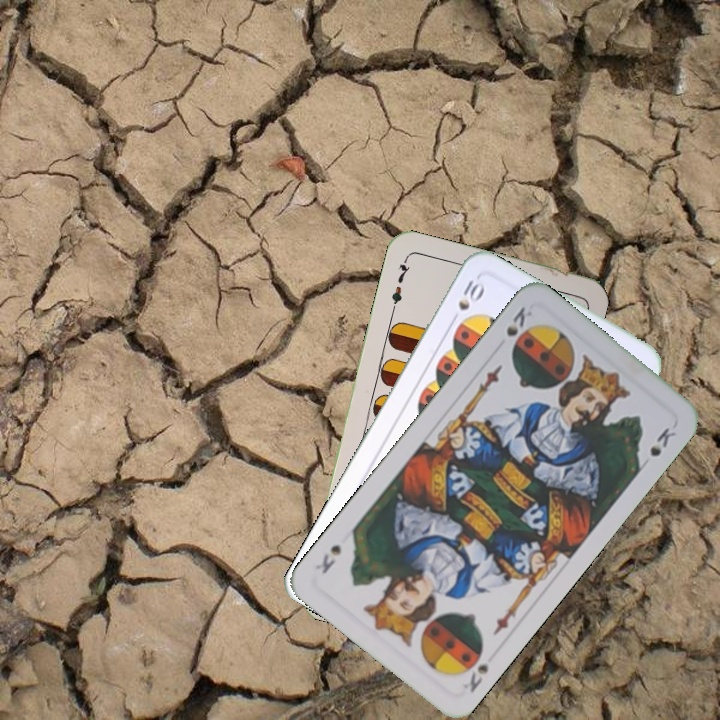E7: (387, 254, 413, 313)
S10: (454, 276, 487, 314)
SK: (458, 660, 492, 696), (502, 302, 535, 339)
